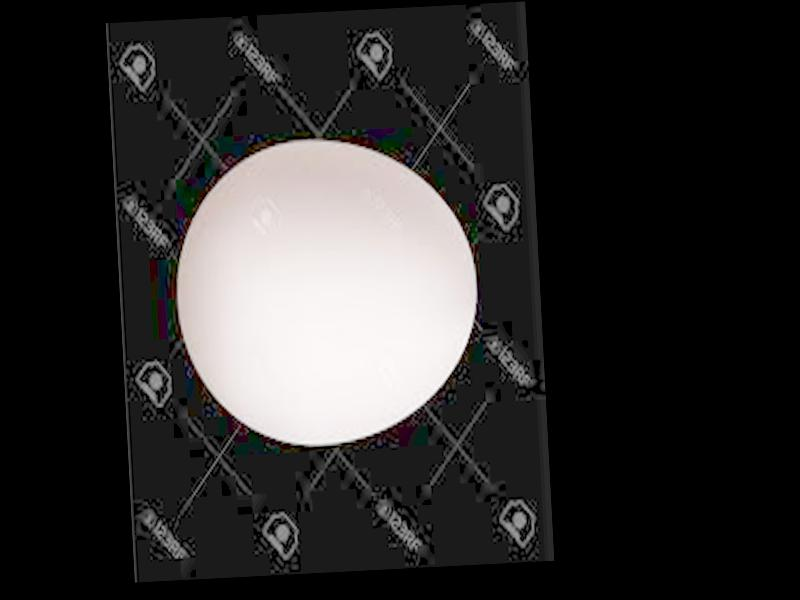Eggs: (171, 136, 481, 450)
